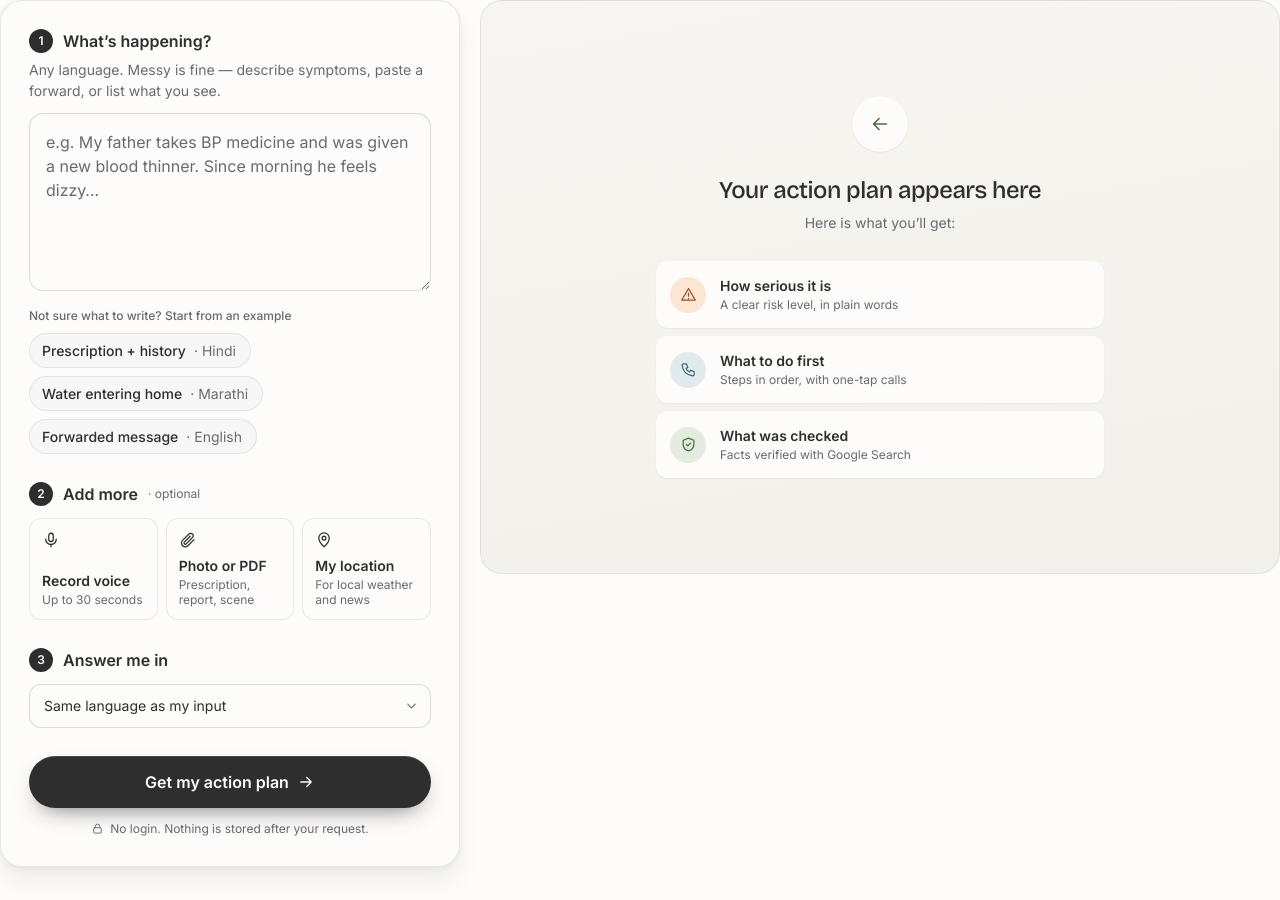
Workspace › fills the form from an example chip
Click the button "Forwarded message · English".
click(143, 436)  # box [29, 419, 257, 454]
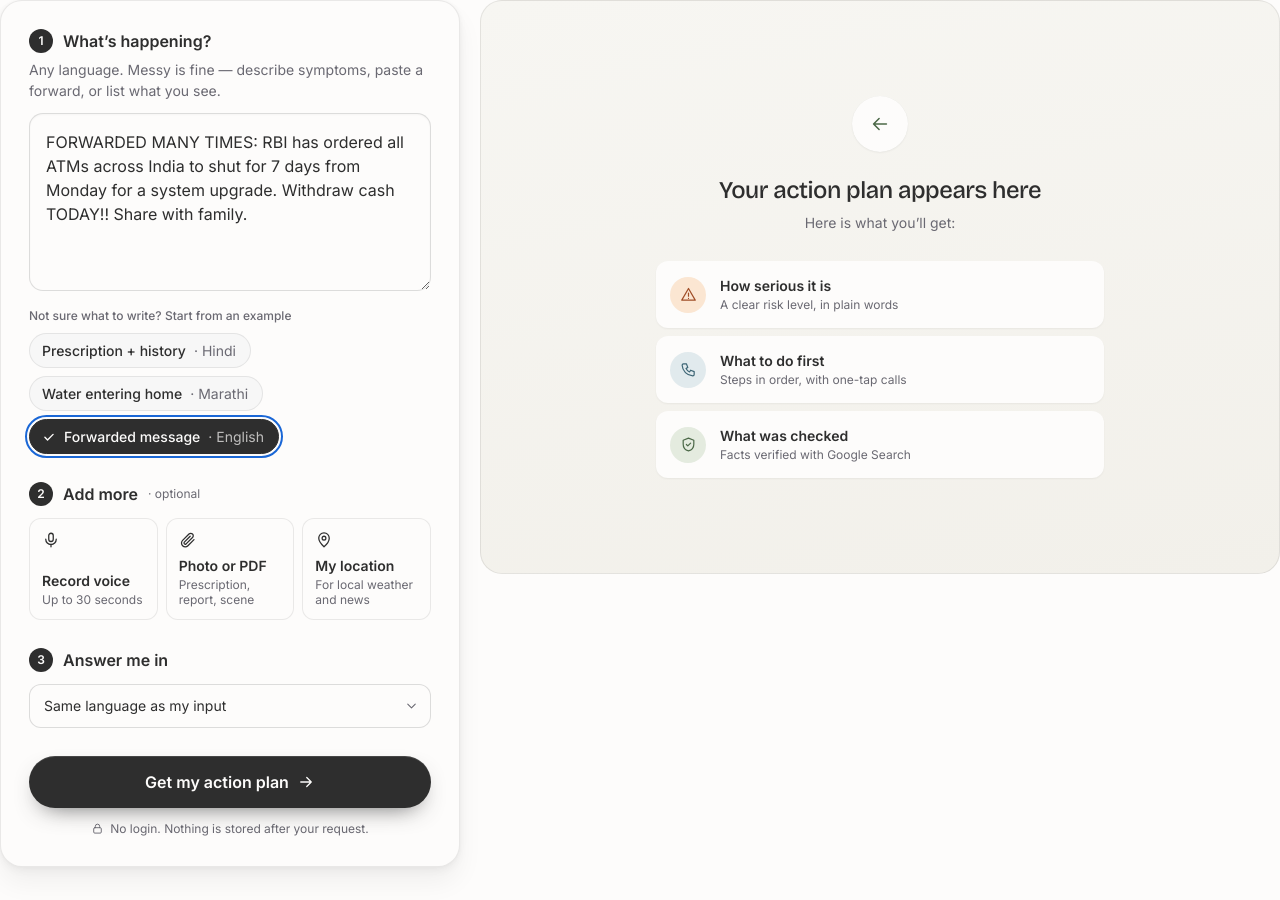
Expected: the text box labelled "What’s happening?" holds "FORWARDED MANY TIMES: RBI has ordered all ATMs across India to shut for 7 days from Monday for a system upgrade. Withdraw cash TODAY!! Share with family.", [29, 113, 431, 291]
